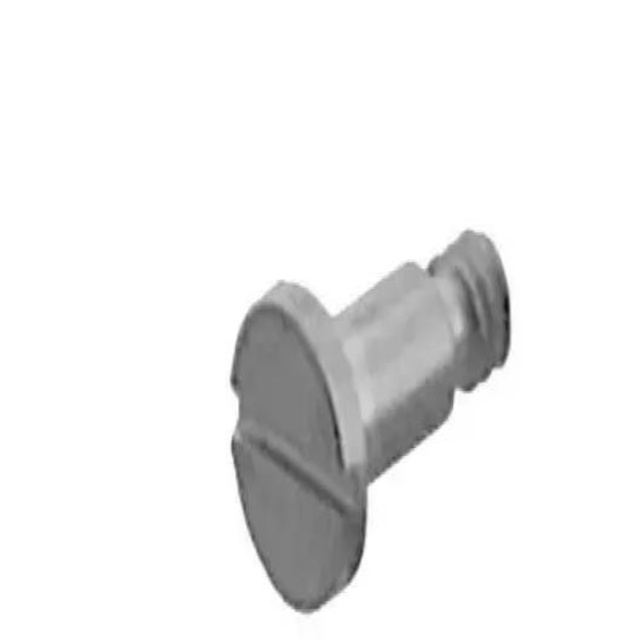duz: (227, 271, 364, 619)
